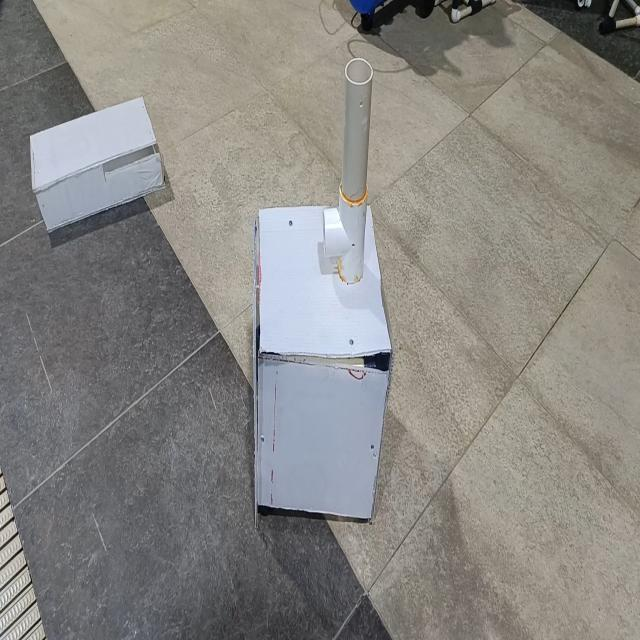Cube: (252, 202, 393, 524)
Cuboid: (29, 93, 165, 234)
